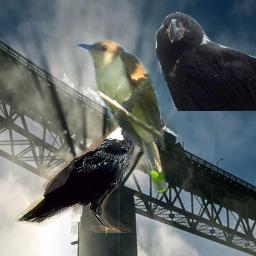Crow: (15, 111, 167, 233), (154, 12, 256, 111)
Cuckoo: (72, 38, 171, 200)
